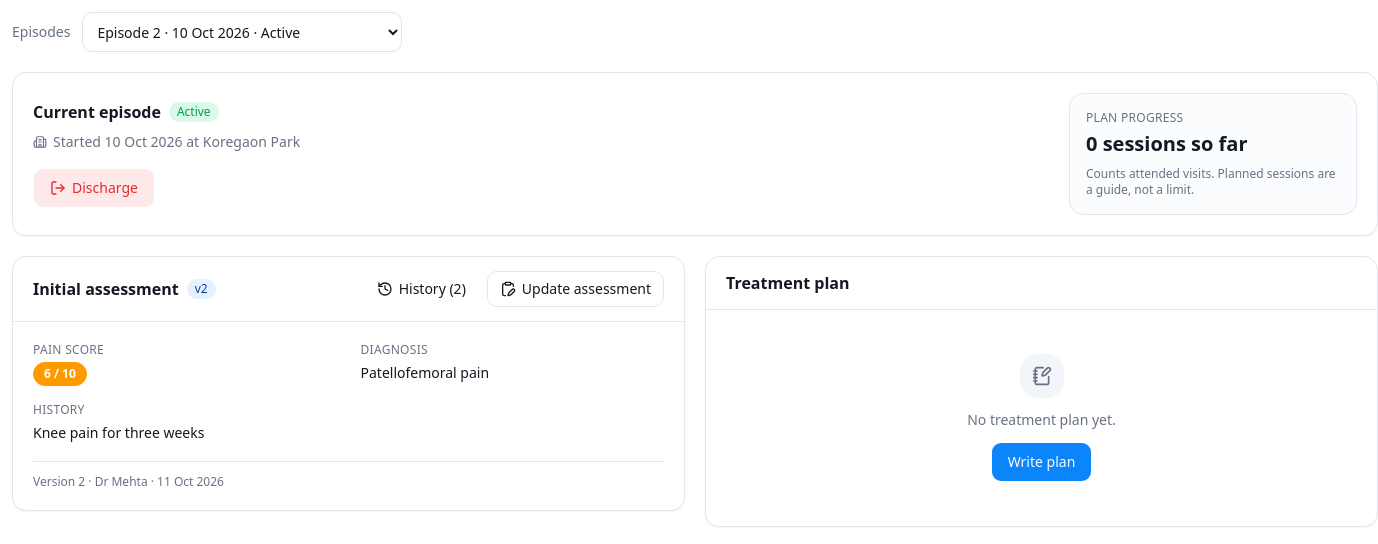
Scenario: treatment tab (CLN-001 to CLN-004) › makes a discharged episode read-only even for a physiotherapist
Select "Episode 1 · 10 Oct 2026 · Discharged" in the dropdown with id "episode-picker" at (242, 32), box x1=82 y1=12 x2=402 y2=52
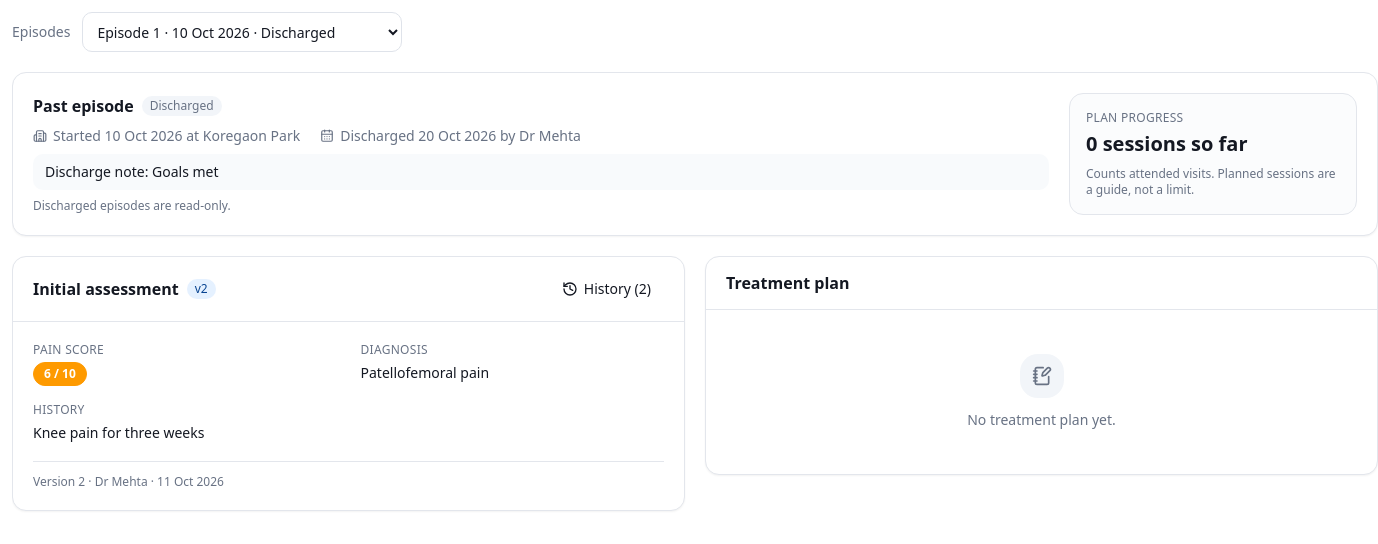
Now the text "Past episode" is shown, box x1=33 y1=94 x2=134 y2=118
Now the text "Goals met" is shown, box x1=152 y1=162 x2=218 y2=181
Now the text "Discharged episodes are read-only." is shown, box x1=33 y1=197 x2=231 y2=214
